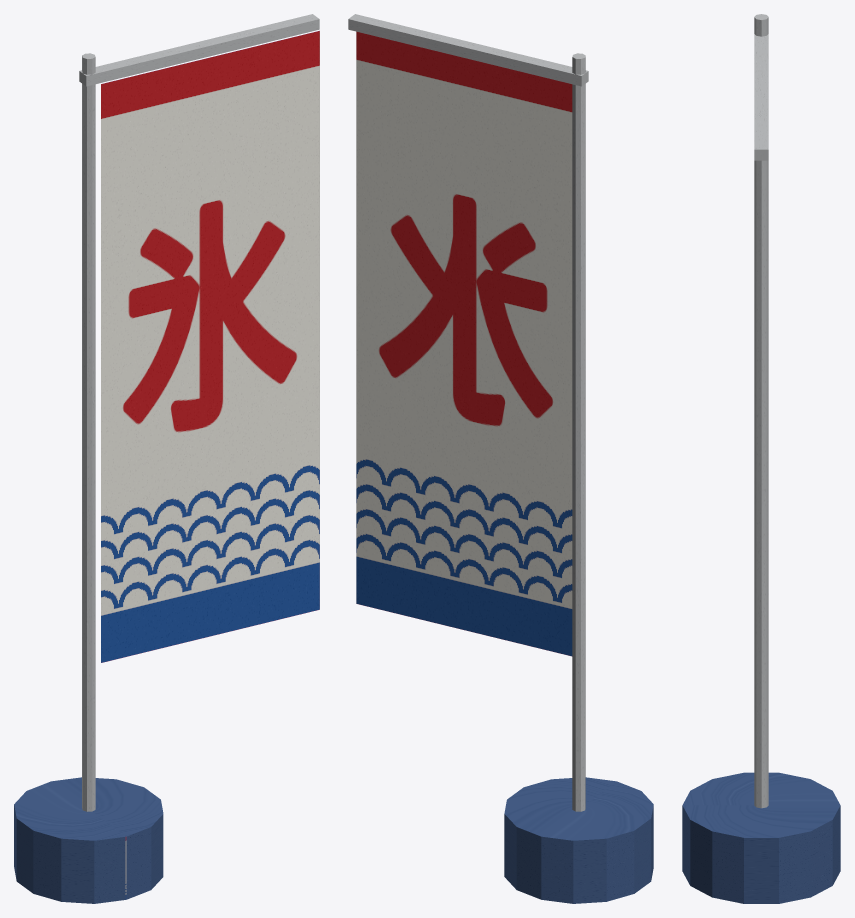
File: kakigori.glb
3 views of the same model, side by side, from view 1: azimuth 30°, elevation 25°; view 2: azimuth 150°, elevation 25°; view 3: azimuth 270°, elevation 25° (orthographic). The views are drawn at different scales.
Visible parts, largest first — view 1: kakigori; view 2: kakigori; view 3: kakigori.
Boxes of the visible parts, left/top/right/bottom form: kakigori: left=14, top=14, right=319, bottom=903; kakigori: left=348, top=14, right=653, bottom=903; kakigori: left=682, top=14, right=840, bottom=903.
Size of the model in its own units: 0.5787 by 1.55 by 0.26.
1 material, 1 textured.
